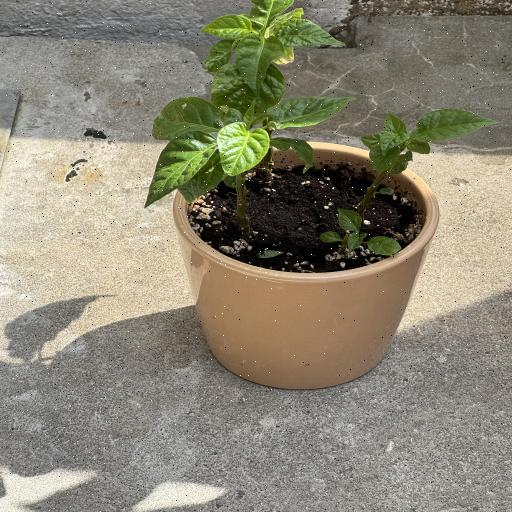Plant Pot: (175, 140, 442, 389)
